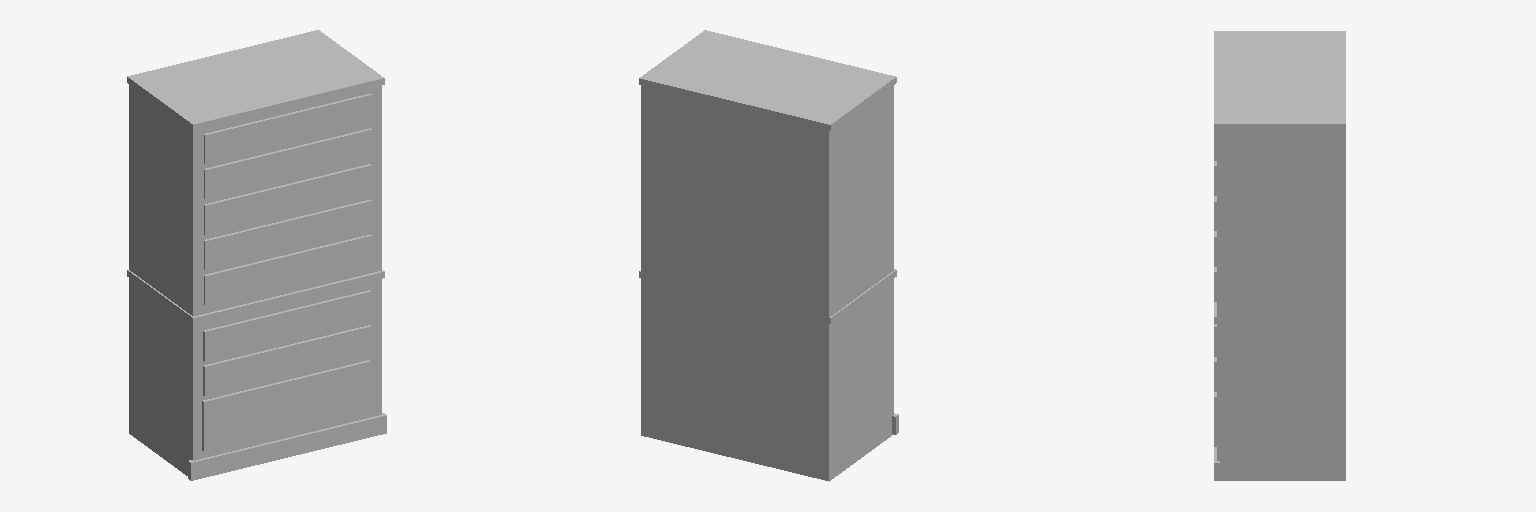
File: highDresser.obj
3 views of the same model, side by side, from view 1: azimuth 30°, elevation 25°; view 2: azimuth 150°, elevation 25°; view 3: azimuth 270°, elevation 25° (orthographic).
Parts seen in each view (by area): view 1: top_section, bottom_section, top, drawer_8, drawer_6, drawer_7, drawer_1, drawer_5, drawer_2, drawer_3, drawer_4, bottom_trim (+1 smaller); view 2: top_section, bottom_section, top, separator; view 3: top_section, bottom_section, top, separator.
Part boxes in pixels (left/top/right/bottom): top_section: left=129, top=85, right=381, bottom=316; bottom_section: left=129, top=278, right=381, bottom=475; top: left=127, top=30, right=384, bottom=130; drawer_8: left=202, top=360, right=370, bottom=451; drawer_6: left=203, top=290, right=371, bottom=361; drawer_7: left=203, top=325, right=371, bottom=396; drawer_1: left=204, top=93, right=371, bottom=164; drawer_5: left=204, top=234, right=371, bottom=305; drawer_2: left=204, top=128, right=371, bottom=199; drawer_3: left=204, top=164, right=371, bottom=235; drawer_4: left=204, top=199, right=371, bottom=270; bottom_trim: left=188, top=413, right=386, bottom=480; top_section: left=641, top=85, right=893, bottom=317; bottom_section: left=641, top=277, right=893, bottom=481; top: left=639, top=30, right=896, bottom=130; separator: left=639, top=269, right=896, bottom=323; top_section: left=1217, top=131, right=1345, bottom=316; bottom_section: left=1217, top=324, right=1345, bottom=480; top: left=1214, top=31, right=1345, bottom=130; separator: left=1214, top=302, right=1345, bottom=323.
Bounding box in the file's own units: 3.17 × 5.53 × 1.86.